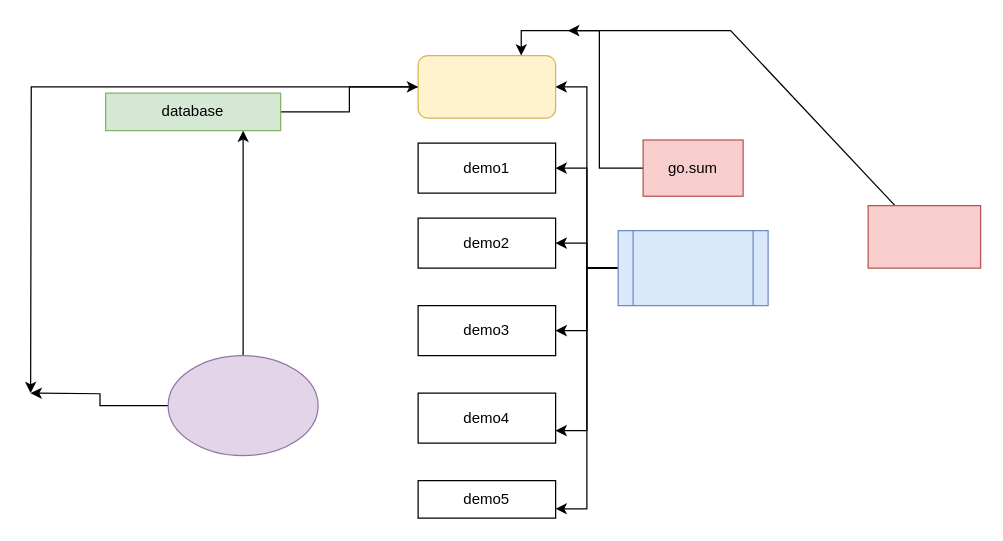
This 1003x541 diagram has some shape labels left out. The shapes that lost their labels are listed below. From the top down, each one's centre as x and y in pixels, then its label:
the point at 486,86: src
the point at 924,236: go.mod
the point at 692,267: product model
the point at 242,405: product.go
